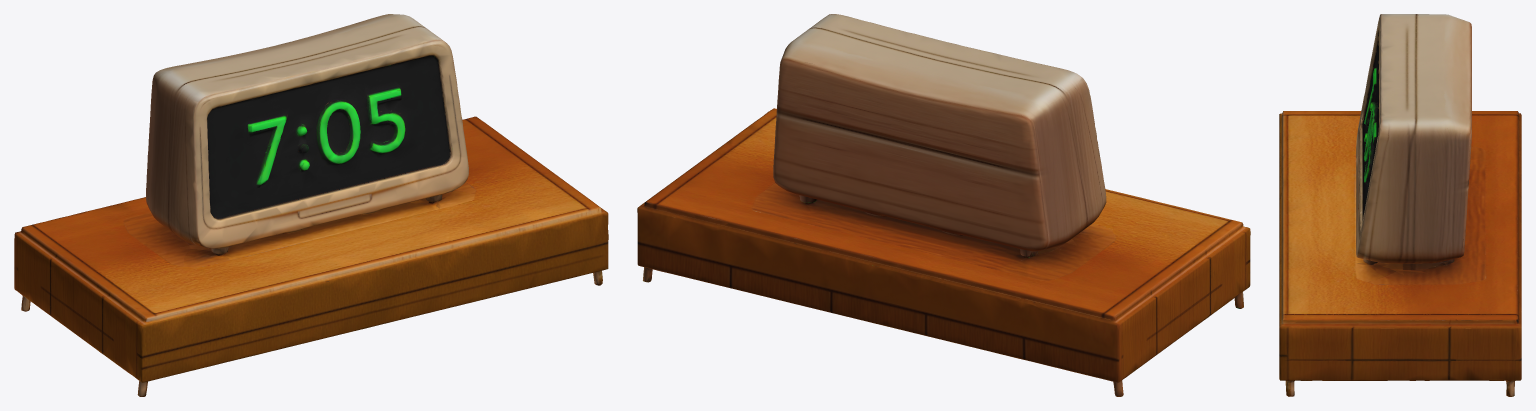
Rendered from Meshy_AI_Morning_Alarm_0108000352_texture.fbx.
3 views of the same model, side by side, from view 1: azimuth 30°, elevation 25°; view 2: azimuth 150°, elevation 25°; view 3: azimuth 270°, elevation 25° (orthographic). The views are drawn at different scales.
Parts seen in each view (by area): view 1: Mesh_0; view 2: Mesh_0; view 3: Mesh_0.
Boxes of the visible parts, <box> form: Mesh_0: <box>14,14,608,396</box>; Mesh_0: <box>637,14,1250,396</box>; Mesh_0: <box>1279,14,1521,396</box>.
Bounding box in the file's own units: 191 × 92.73 × 91.19.
1 material, 1 textured.
